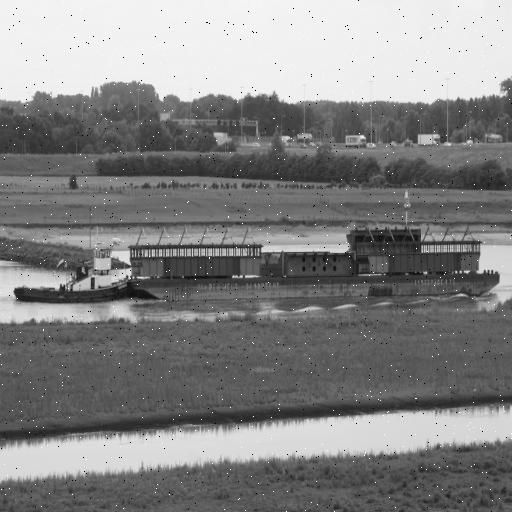tugboat: (12, 222, 156, 311)
